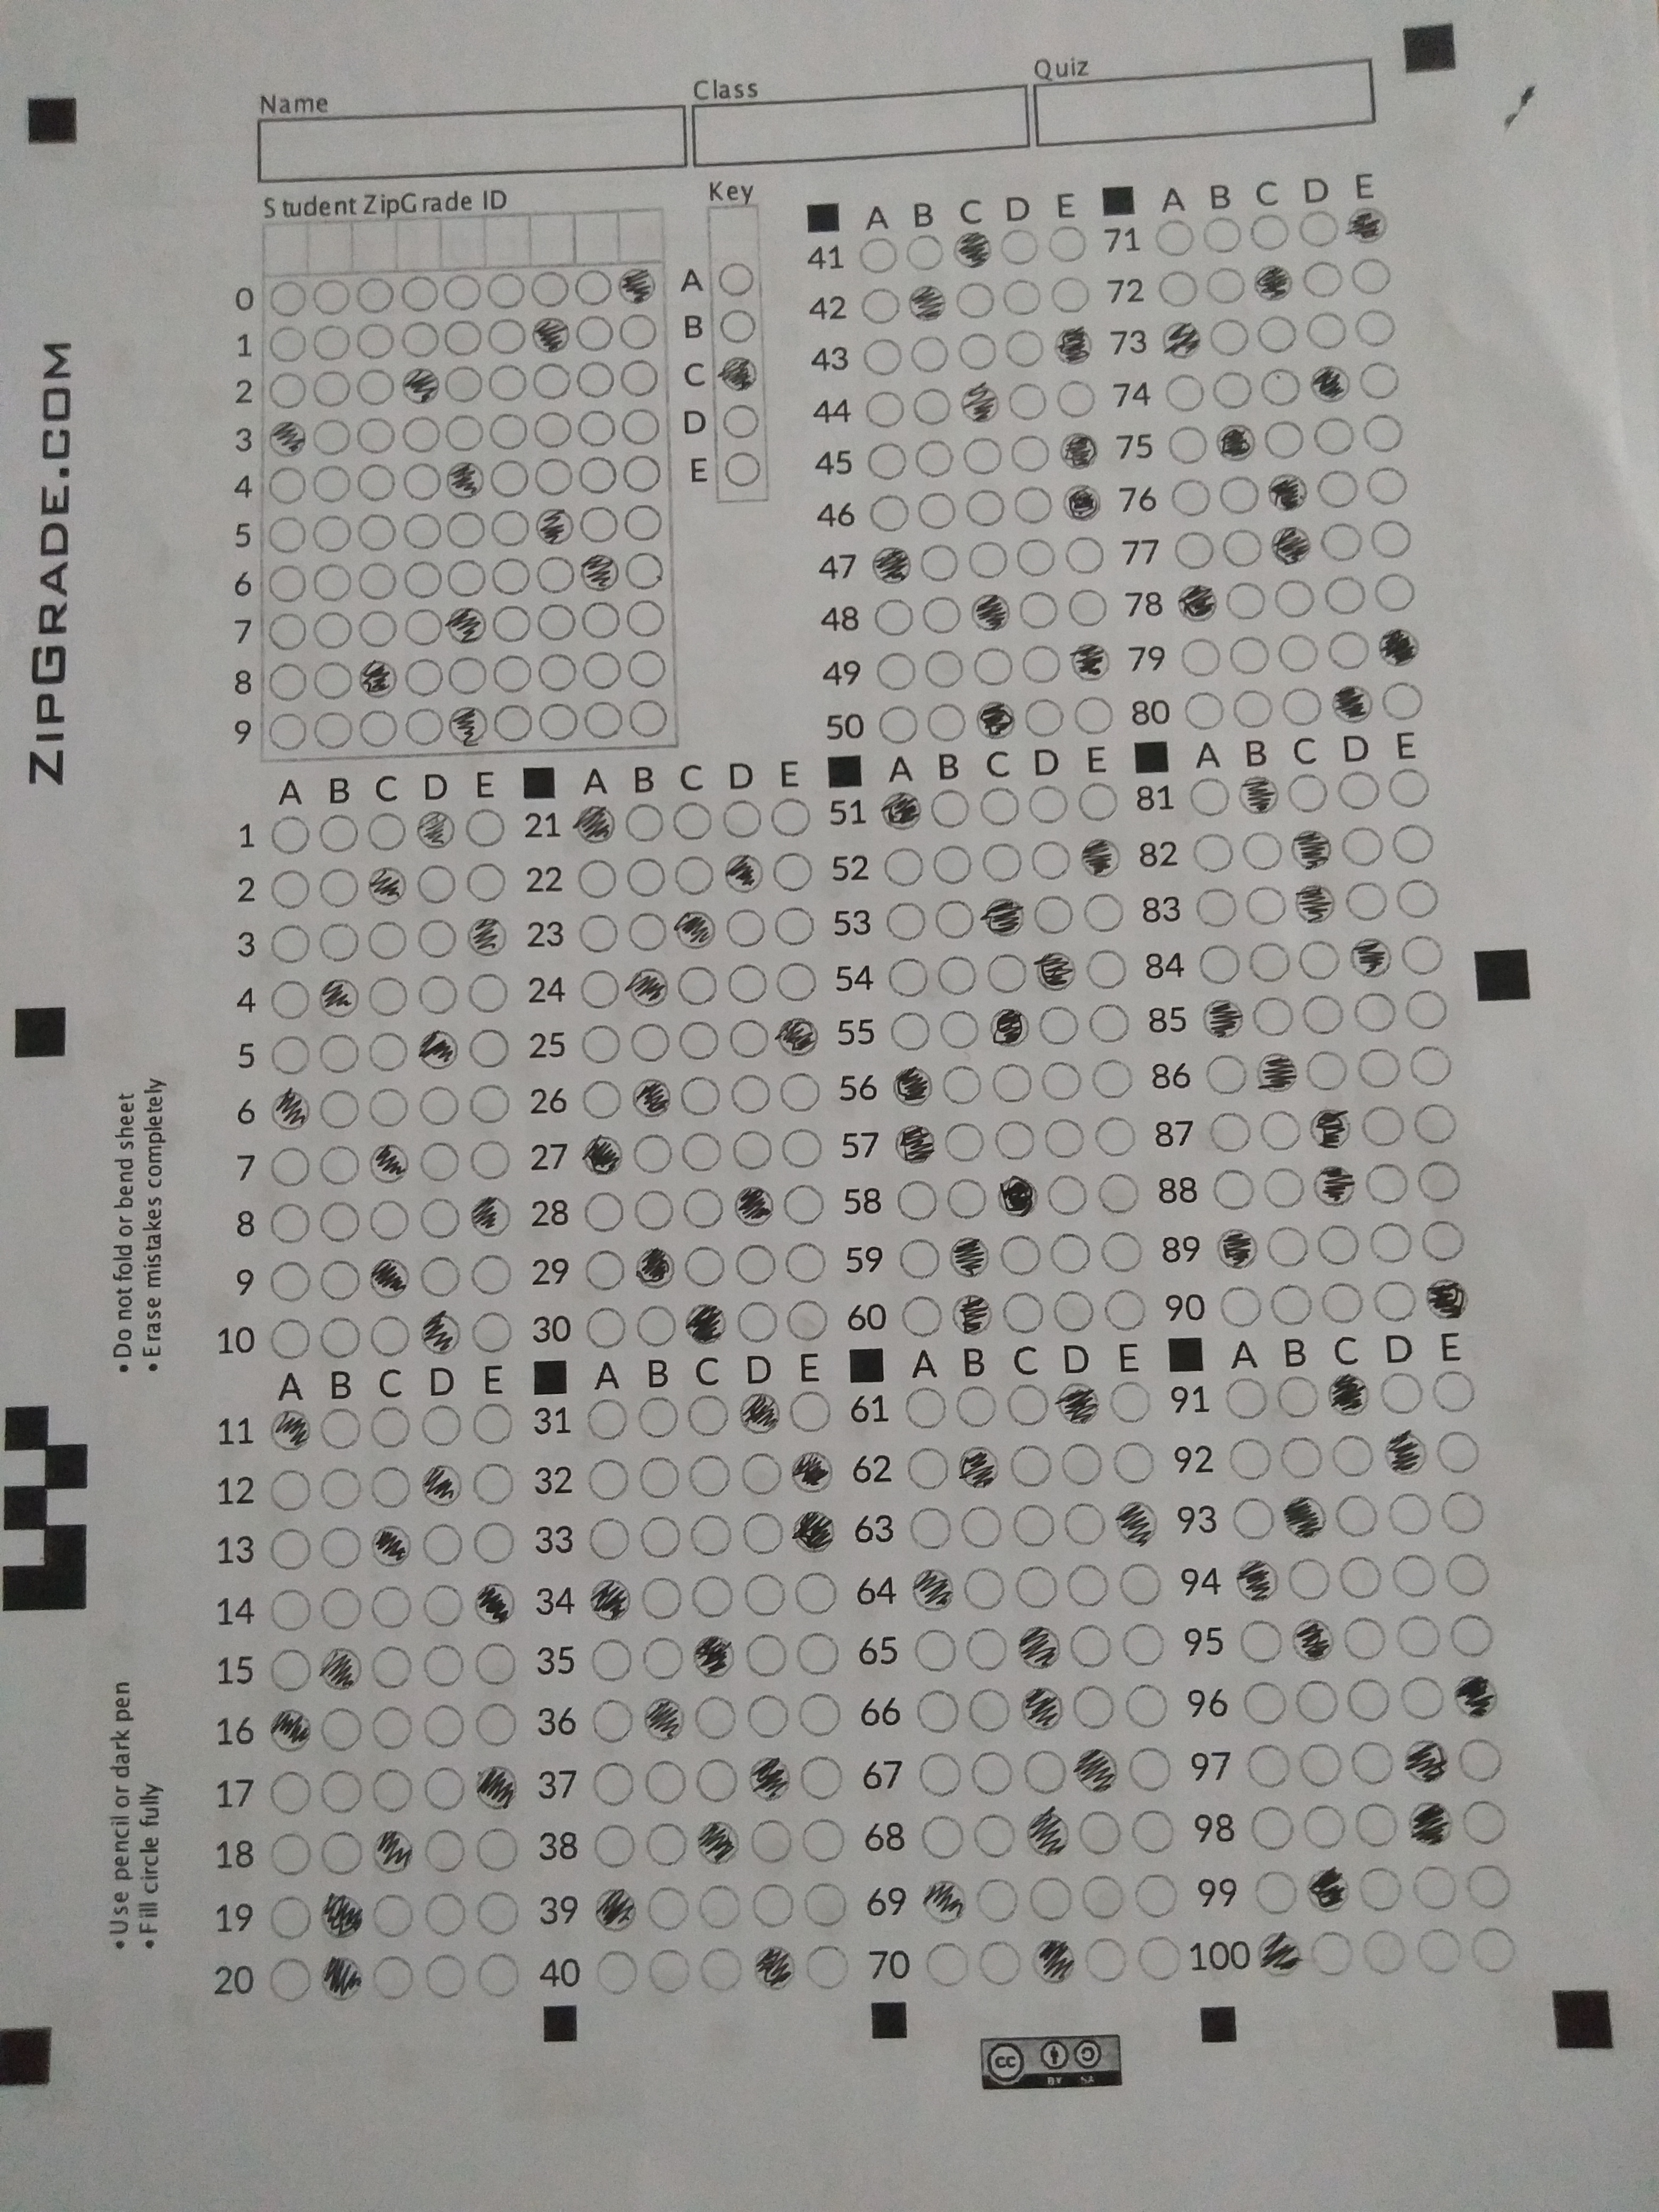not-c: (1178, 637, 1222, 679), (1223, 580, 1267, 622), (1323, 573, 1366, 615), (1230, 686, 1274, 728), (1380, 681, 1424, 723), (1276, 632, 1319, 674), (1244, 883, 1288, 925), (1192, 831, 1236, 873), (1190, 773, 1234, 815), (1303, 1049, 1347, 1090), (1352, 989, 1396, 1031), (1316, 1224, 1359, 1266), (1211, 1169, 1255, 1211), (1361, 1104, 1405, 1146), (1358, 1047, 1401, 1089), (1373, 1280, 1417, 1322), (1392, 1555, 1436, 1597), (1389, 1491, 1432, 1533), (1335, 1496, 1378, 1538), (1436, 1432, 1480, 1474), (1331, 1433, 1375, 1475), (1229, 1439, 1272, 1480), (1399, 1677, 1443, 1719), (1295, 1679, 1338, 1721), (1398, 1616, 1441, 1658), (1359, 1869, 1403, 1911), (1422, 1221, 1466, 1263), (1356, 1804, 1398, 1846), (1370, 517, 1412, 559), (1319, 521, 1361, 563), (1364, 463, 1406, 505), (1316, 469, 1358, 510), (1326, 629, 1368, 671), (1345, 880, 1387, 921), (1340, 826, 1382, 867), (1338, 770, 1380, 812), (1401, 934, 1443, 975), (1195, 885, 1237, 927), (1370, 1221, 1412, 1263), (1267, 1226, 1309, 1268), (1262, 1167, 1303, 1209), (1364, 1163, 1406, 1205), (1417, 1160, 1459, 1202), (1443, 1491, 1485, 1533), (1281, 1437, 1323, 1479), (1434, 1371, 1476, 1413), (1277, 1376, 1319, 1418), (1246, 1745, 1288, 1787), (1349, 1677, 1391, 1719), (1452, 1615, 1493, 1656), (1345, 1618, 1387, 1660), (1302, 1804, 1344, 1846), (1352, 1743, 1394, 1785), (1310, 1932, 1352, 1973), (1466, 1801, 1507, 1843), (268, 1959, 312, 2000), (268, 1897, 312, 1937), (643, 1824, 687, 1864), (592, 1825, 636, 1865), (474, 1831, 518, 1871), (423, 1831, 467, 1871), (319, 1832, 362, 1872), (267, 1834, 310, 1874), (695, 1759, 739, 1799), (591, 1763, 634, 1803), (647, 1886, 690, 1926), (423, 1895, 467, 1935), (594, 1951, 638, 1991), (371, 1958, 415, 1998), (803, 1947, 847, 1987), (803, 1885, 847, 1925), (974, 1881, 1018, 1921), (979, 1942, 1023, 1982), (924, 1944, 967, 1984), (920, 1817, 964, 1857), (918, 1754, 962, 1794), (915, 1689, 958, 1730), (908, 1507, 951, 1547), (904, 1447, 948, 1487), (793, 1573, 836, 1613), (798, 1693, 842, 1733), (802, 1820, 845, 1860), (1061, 1505, 1105, 1545), (1112, 1442, 1155, 1482), (1060, 1444, 1103, 1484), (958, 1507, 1002, 1547), (1009, 1446, 1053, 1486), (965, 1689, 1009, 1730), (1122, 1625, 1166, 1665), (1068, 1627, 1112, 1667), (1117, 1564, 1161, 1604), (1066, 1566, 1110, 1606), (1014, 1568, 1058, 1608), (1129, 1749, 1173, 1789), (971, 1754, 1014, 1794), (1126, 1686, 1169, 1726), (1072, 1688, 1115, 1728), (1084, 1939, 1127, 1979), (1134, 1876, 1178, 1916), (1080, 1878, 1124, 1918), (1077, 1813, 1121, 1853), (1272, 578, 1316, 618), (1387, 768, 1431, 808), (1227, 636, 1270, 676), (1241, 831, 1284, 871), (1286, 773, 1330, 813), (1204, 1054, 1248, 1094), (1302, 995, 1345, 1035), (1298, 939, 1342, 979), (1260, 1109, 1303, 1150), (1445, 1554, 1488, 1594), (1338, 1559, 1382, 1599), (1290, 1559, 1333, 1599), (1244, 1683, 1288, 1723), (1249, 1808, 1293, 1848), (1361, 1932, 1405, 1972), (1467, 1867, 1511, 1907), (1413, 1867, 1457, 1907), (680, 1076, 721, 1116), (694, 1576, 735, 1616), (640, 1578, 681, 1618), (422, 1585, 464, 1625), (319, 1527, 361, 1568), (744, 1575, 786, 1615), (268, 1649, 310, 1689), (321, 1771, 362, 1811), (694, 1698, 735, 1738), (371, 1707, 413, 1747), (749, 1820, 791, 1860), (643, 1761, 685, 1801), (477, 1893, 519, 1933), (371, 1895, 413, 1935), (423, 1956, 465, 1996), (699, 1949, 741, 1989), (647, 1951, 688, 1991), (913, 1630, 955, 1670), (904, 1388, 946, 1428), (789, 1392, 831, 1432), (796, 1634, 838, 1674), (800, 1756, 842, 1796), (1253, 1872, 1295, 1912), (965, 1629, 1007, 1669), (964, 1568, 1006, 1608), (1108, 1381, 1150, 1421), (1025, 1752, 1066, 1792), (1138, 1939, 1180, 1979), (1131, 1811, 1173, 1851), (1373, 571, 1415, 611), (1364, 413, 1406, 453), (1312, 416, 1354, 456), (1182, 691, 1223, 732), (1281, 686, 1323, 726), (1396, 878, 1438, 918), (1391, 824, 1432, 864), (1251, 996, 1293, 1036), (1405, 989, 1446, 1029), (1248, 941, 1290, 981), (1199, 942, 1241, 982), (1413, 1104, 1455, 1144), (1209, 1111, 1251, 1151), (1410, 1045, 1452, 1085), (1321, 1282, 1363, 1322), (1270, 1285, 1312, 1325), (1220, 1287, 1262, 1327), (1241, 1620, 1283, 1660), (1232, 1500, 1274, 1540), (1380, 1372, 1422, 1413), (1225, 1378, 1267, 1418), (1460, 1738, 1502, 1778), (1298, 1745, 1340, 1785), (1419, 1930, 1460, 1970), (1471, 1930, 1513, 1970), (751, 1886, 795, 1925), (697, 1886, 741, 1925), (476, 1956, 519, 1994), (1011, 1507, 1054, 1545), (1006, 1386, 1049, 1425), (1028, 1879, 1072, 1918), (971, 1817, 1014, 1855), (641, 1517, 681, 1557), (929, 789, 969, 829), (784, 1242, 824, 1282), (782, 1184, 823, 1224), (781, 1071, 821, 1111), (775, 961, 816, 1001), (774, 906, 814, 946), (1086, 946, 1126, 986), (986, 953, 1026, 993), (981, 841, 1021, 881), (1077, 782, 1117, 822), (1093, 1059, 1133, 1099), (1089, 1001, 1129, 1042), (1054, 1291, 1094, 1331), (899, 1238, 939, 1278), (1098, 1172, 1138, 1212), (1044, 1118, 1084, 1158), (1002, 1292, 1042, 1332), (901, 1296, 941, 1336), (1105, 1289, 1145, 1329), (1072, 697, 1112, 737), (913, 437, 953, 477), (868, 441, 908, 481), (864, 388, 904, 428), (1004, 329, 1044, 369), (910, 334, 950, 374), (1065, 535, 1105, 575), (1012, 484, 1053, 524), (974, 646, 1014, 686), (924, 648, 964, 688), (920, 594, 960, 634), (1260, 368, 1300, 408), (1354, 307, 1394, 347), (1305, 310, 1345, 350), (1256, 315, 1297, 355), (1300, 207, 1340, 247), (1208, 265, 1248, 305), (1173, 529, 1213, 570), (1168, 425, 1208, 465), (321, 1588, 362, 1627), (270, 1590, 312, 1629), (742, 1514, 784, 1552), (690, 1515, 732, 1554), (589, 1519, 631, 1557), (474, 1524, 516, 1562), (270, 1529, 312, 1568), (688, 1456, 730, 1494), (638, 1458, 680, 1496), (369, 1648, 411, 1686), (270, 1773, 312, 1811), (746, 1696, 788, 1735), (592, 1702, 634, 1740), (474, 1703, 516, 1742), (423, 1707, 465, 1745), (746, 1635, 788, 1674), (641, 1639, 683, 1677), (589, 1641, 631, 1679), (476, 1644, 518, 1683), (931, 845, 972, 883), (955, 1386, 997, 1425), (423, 1770, 465, 1808), (587, 1460, 627, 1498), (373, 1771, 413, 1810), (371, 1587, 411, 1625), (422, 1526, 462, 1564), (742, 1454, 782, 1493), (321, 1709, 361, 1747), (422, 1646, 462, 1684), (774, 852, 812, 892), (979, 787, 1019, 826), (788, 1301, 828, 1339), (782, 1129, 821, 1169), (945, 1122, 983, 1162), (938, 954, 978, 993), (1084, 892, 1122, 932), (1033, 894, 1072, 934), (885, 900, 925, 939), (1030, 841, 1070, 880), (1040, 1061, 1080, 1099), (992, 1064, 1032, 1103), (943, 1064, 983, 1103), (1039, 1005, 1077, 1045), (939, 1007, 978, 1047), (890, 1010, 929, 1050), (946, 1179, 986, 1217), (897, 1181, 938, 1219), (1094, 1116, 1134, 1155), (1051, 1233, 1089, 1273), (1101, 1231, 1140, 1271), (877, 651, 915, 691), (873, 597, 913, 636), (868, 493, 908, 531), (1056, 380, 1096, 418), (1007, 380, 1046, 420), (913, 387, 951, 427), (864, 334, 903, 374), (1049, 275, 1089, 314), (1002, 279, 1040, 319), (955, 280, 995, 319), (859, 286, 899, 324), (999, 228, 1039, 266), (904, 235, 945, 273), (1016, 538, 1056, 577), (965, 489, 1006, 528), (917, 489, 957, 528), (962, 437, 1000, 477), (1018, 590, 1058, 629), (1025, 698, 1065, 737), (1265, 420, 1303, 460), (1359, 361, 1398, 401), (1303, 260, 1342, 300), (1223, 526, 1262, 566), (1218, 475, 1258, 514), (1213, 369, 1253, 408), (1209, 317, 1248, 357), (1201, 218, 1241, 256), (1171, 477, 1209, 517), (1164, 374, 1204, 413), (1154, 218, 1192, 258), (721, 449, 760, 489), (720, 401, 760, 439), (718, 307, 758, 345), (714, 258, 755, 296), (448, 559, 486, 597), (575, 314, 613, 352), (577, 359, 615, 397), (359, 709, 397, 747), (537, 556, 575, 594), (732, 1130, 770, 1169), (474, 1463, 512, 1501), (587, 1308, 626, 1346), (770, 798, 809, 836), (1028, 786, 1066, 824), (889, 958, 927, 996), (934, 900, 972, 939), (884, 848, 922, 887), (1000, 1235, 1039, 1273), (1047, 1176, 1086, 1214), (995, 1122, 1033, 1160), (958, 331, 997, 369), (1047, 225, 1086, 263), (859, 235, 897, 273), (969, 540, 1007, 578), (920, 543, 958, 582), (1011, 434, 1049, 472), (929, 704, 967, 742), (878, 705, 917, 744), (1023, 644, 1061, 683), (1068, 589, 1107, 627), (1352, 258, 1391, 296), (1249, 212, 1288, 251), (1159, 270, 1197, 308), (272, 815, 308, 855), (584, 702, 624, 738), (314, 277, 350, 315), (270, 280, 307, 319), (404, 561, 441, 599), (355, 322, 392, 361), (314, 322, 350, 361), (268, 324, 305, 362), (575, 270, 612, 308), (532, 272, 568, 310), (488, 272, 525, 310), (444, 273, 481, 312), (401, 273, 437, 312), (357, 275, 394, 314), (490, 315, 526, 354), (444, 319, 481, 357), (403, 319, 439, 357), (359, 563, 396, 601), (490, 509, 526, 547), (314, 563, 350, 601), (268, 563, 305, 601), (624, 503, 660, 542), (579, 505, 615, 543), (359, 512, 396, 550), (448, 510, 484, 549), (404, 512, 441, 550), (620, 314, 657, 352), (314, 514, 350, 552), (268, 516, 305, 554), (624, 455, 662, 491), (537, 456, 573, 495), (446, 364, 483, 402), (491, 458, 528, 496), (404, 463, 441, 502), (491, 362, 528, 401), (357, 463, 394, 502), (314, 463, 350, 502), (622, 406, 659, 444), (580, 409, 617, 448), (535, 411, 572, 449), (490, 413, 526, 451), (446, 413, 483, 451), (403, 415, 439, 453), (357, 415, 394, 453), (357, 368, 394, 406), (312, 416, 349, 455), (620, 359, 659, 395), (533, 362, 570, 401), (312, 369, 349, 408), (268, 369, 305, 408), (418, 920, 455, 958), (369, 920, 406, 958), (321, 923, 357, 961), (272, 925, 308, 963), (676, 855, 713, 894), (627, 857, 664, 895), (579, 859, 615, 897), (493, 603, 530, 641), (467, 862, 504, 900), (406, 608, 443, 646), (418, 864, 455, 902), (321, 869, 357, 907), (272, 871, 308, 909), (582, 599, 619, 637), (359, 610, 396, 648), (723, 798, 760, 836), (674, 801, 711, 840), (626, 805, 662, 843), (467, 808, 504, 846), (368, 812, 404, 850), (321, 813, 357, 852), (629, 698, 666, 737), (540, 704, 577, 742), (406, 709, 443, 747), (315, 711, 352, 749), (268, 711, 305, 749), (629, 650, 666, 688), (584, 651, 620, 690), (538, 653, 575, 691), (493, 655, 530, 693), (448, 657, 484, 695), (406, 658, 443, 697), (315, 660, 352, 698), (270, 662, 307, 700), (627, 599, 664, 637), (314, 611, 350, 650), (268, 613, 305, 651), (626, 550, 662, 589), (493, 557, 530, 596), (471, 1085, 507, 1123), (420, 1087, 457, 1125), (471, 1029, 507, 1068), (369, 1089, 406, 1127), (322, 1090, 359, 1129), (369, 1033, 406, 1071), (730, 1021, 767, 1059), (321, 1035, 357, 1073), (631, 1022, 667, 1061), (681, 1021, 718, 1059), (582, 1024, 619, 1062), (272, 1036, 308, 1075), (728, 965, 765, 1003), (680, 965, 716, 1003), (582, 970, 619, 1008), (469, 974, 505, 1012), (418, 975, 455, 1014), (369, 979, 406, 1017), (274, 981, 310, 1019), (727, 909, 763, 948), (629, 913, 666, 951), (580, 914, 617, 953), (685, 1188, 721, 1226), (636, 1191, 673, 1230), (586, 1193, 622, 1231), (422, 1198, 458, 1237), (369, 1202, 406, 1240), (321, 1202, 357, 1240), (272, 1204, 308, 1242), (683, 1132, 720, 1170), (634, 1136, 671, 1174), (422, 1143, 458, 1181), (472, 1141, 509, 1179), (322, 1146, 359, 1184), (272, 1146, 308, 1184), (732, 1076, 769, 1115), (584, 1078, 620, 1116), (373, 1468, 410, 1507), (322, 1468, 359, 1507), (272, 1470, 308, 1508), (690, 1395, 727, 1433), (640, 1399, 676, 1437), (472, 1404, 509, 1442), (589, 1400, 626, 1439), (422, 1406, 458, 1444), (371, 1407, 408, 1446), (322, 1411, 359, 1449), (739, 1303, 775, 1341), (638, 1306, 674, 1345), (474, 1312, 511, 1350), (371, 1317, 408, 1355), (322, 1318, 359, 1357), (737, 1244, 774, 1282), (687, 1247, 723, 1285), (587, 1251, 624, 1289), (472, 1256, 509, 1294), (422, 1256, 458, 1294), (322, 1261, 359, 1299), (274, 1263, 310, 1301), (537, 604, 573, 641), (495, 705, 532, 742), (272, 1318, 308, 1355), (577, 458, 615, 493), (270, 467, 307, 502)
taken-c: (920, 1876, 971, 1926), (1256, 1930, 1305, 1980), (472, 1763, 521, 1811), (1424, 1277, 1473, 1325), (1403, 1735, 1452, 1784), (359, 698, 410, 745), (1408, 1797, 1455, 1848), (317, 1892, 366, 1939), (1032, 1935, 1079, 1984), (1025, 1810, 1072, 1858), (1016, 1623, 1065, 1670), (1452, 1672, 1500, 1719), (1384, 1430, 1431, 1477), (1303, 1867, 1351, 1914), (469, 1191, 514, 1240), (369, 1829, 415, 1878), (692, 1820, 741, 1865), (748, 1754, 793, 1803), (1073, 1747, 1119, 1796), (594, 1885, 638, 1935), (268, 1087, 314, 1134), (732, 1184, 779, 1230), (993, 1174, 1040, 1219), (474, 1581, 519, 1629), (319, 1644, 364, 1691), (319, 1956, 366, 2001), (739, 1390, 784, 1437), (1019, 1686, 1065, 1733), (910, 1566, 955, 1613), (1312, 1160, 1358, 1207), (1324, 1371, 1370, 1418), (1236, 1557, 1281, 1604), (753, 1946, 798, 1991), (587, 1576, 633, 1622), (1115, 1500, 1161, 1545), (1058, 1379, 1103, 1425), (1291, 881, 1337, 927), (362, 866, 410, 909), (464, 916, 511, 960), (415, 1029, 462, 1073), (673, 907, 720, 951), (683, 1301, 727, 1348), (1032, 949, 1079, 993), (690, 1634, 737, 1677), (1310, 1104, 1354, 1151), (1216, 1224, 1260, 1271), (1291, 1616, 1335, 1663), (1155, 319, 1204, 361), (1279, 1496, 1328, 1538), (368, 1141, 413, 1184), (420, 1310, 464, 1355), (633, 1247, 676, 1292), (983, 895, 1028, 939), (890, 1062, 934, 1108), (948, 1235, 992, 1280), (950, 1291, 993, 1336), (267, 1407, 312, 1451), (420, 1463, 465, 1507), (268, 1707, 312, 1752), (641, 1696, 687, 1740), (791, 1451, 836, 1494), (958, 1444, 1002, 1489), (1175, 580, 1220, 624), (1377, 624, 1420, 669), (1290, 826, 1333, 871), (1255, 1049, 1300, 1092), (1211, 420, 1258, 462), (580, 552, 624, 596), (317, 975, 361, 1019), (368, 1256, 411, 1299), (631, 1075, 674, 1118), (580, 1134, 624, 1177), (1080, 836, 1124, 880), (894, 1123, 938, 1167), (793, 1510, 836, 1554), (1270, 523, 1314, 566), (1202, 996, 1246, 1040), (446, 705, 491, 747), (774, 1017, 819, 1059), (969, 592, 1014, 634), (1265, 470, 1310, 512), (575, 803, 619, 845), (723, 852, 765, 895), (880, 791, 924, 833), (371, 1524, 413, 1568), (976, 698, 1018, 742), (1051, 326, 1094, 368), (951, 230, 995, 272), (1349, 935, 1392, 977), (1330, 683, 1375, 723), (1236, 775, 1281, 815), (868, 547, 915, 585), (415, 808, 457, 850), (627, 967, 669, 1008), (1061, 481, 1103, 523), (990, 1005, 1030, 1049), (530, 314, 572, 354), (399, 366, 441, 406), (535, 507, 577, 547), (1060, 430, 1101, 470), (958, 383, 1000, 423), (1349, 204, 1389, 246), (1310, 364, 1352, 404), (265, 420, 308, 458), (1251, 263, 1295, 301), (617, 266, 657, 307), (1072, 641, 1112, 681), (718, 355, 760, 394), (444, 462, 486, 500), (446, 606, 488, 644), (357, 660, 399, 698), (906, 286, 948, 322)
